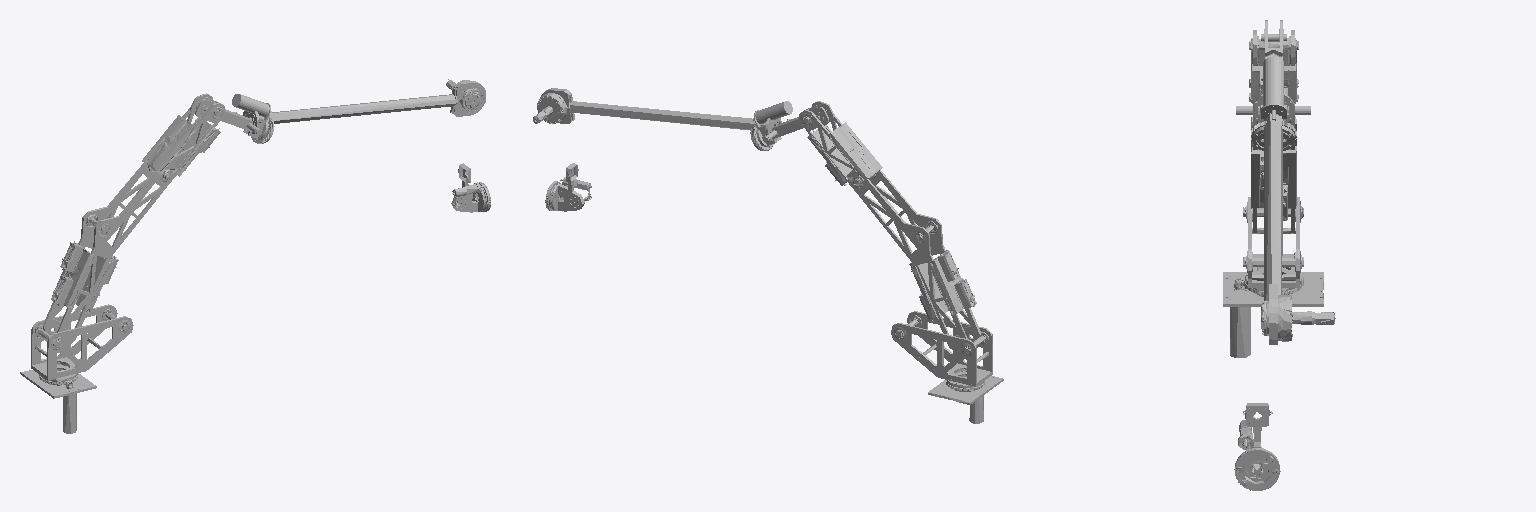
robot.urdf — arm_urdf3:
<?xml version="1.0" encoding="utf-8"?>
<!-- This URDF was automatically created by SolidWorks to URDF Exporter! Originally created by [author] ([email redacted]) 
     Commit Version: 1.6.0-4-g7f85cfe  Build Version: 1.6.7995.38578
     For more information, please see http://wiki.ros.org/sw_urdf_exporter -->
<robot
  name="arm_urdf3">
  <link
    name="Link_1">
    <inertial>
      <origin
        xyz="0.00622341511954164 -0.00916820792441791 -0.0469349641137912"
        rpy="0 0 0" />
      <mass
        value="3.33097898163857" />
      <inertia
        ixx="0.0101819650222787"
        ixy="-1.98734712904888E-07"
        ixz="-8.66271809934504E-05"
        iyy="0.00358872310944578"
        iyz="-2.39587965010669E-06"
        izz="0.00949532820710057" />
    </inertial>
    <visual>
      <origin
        xyz="0 0 0"
        rpy="0 0 0" />
      <geometry>
        <mesh
          filename="package://arm_urdf3/meshes/visual/Link_1.STL" />
      </geometry>
      <material
        name="">
        <color
          rgba="0.752941176470588 0.752941176470588 0.752941176470588 1" />
      </material>
    </visual>
    <collision>
      <origin
        xyz="0 0 0"
        rpy="0 0 0" />
      <geometry>
        <mesh
          filename="package://arm_urdf3/meshes/collision/Link_1.STL" />
      </geometry>
    </collision>
  </link>
  <link
    name="Link_2">
    <inertial>
      <origin
        xyz="0.060972336777117 -1.36723296035798E-05 0.0647576977642935"
        rpy="0 0 0" />
      <mass
        value="0.516253747755485" />
      <inertia
        ixx="0.000613480594305293"
        ixy="5.38160003974242E-19"
        ixz="-0.000275510697436789"
        iyy="0.0023924326610652"
        iyz="2.3245534780382E-20"
        izz="0.00218490294968333" />
    </inertial>
    <visual>
      <origin
        xyz="0 0 0"
        rpy="0 0 0" />
      <geometry>
        <mesh
          filename="package://arm_urdf3/meshes/visual/Link_2.STL" />
      </geometry>
      <material
        name="">
        <color
          rgba="0.752941176470588 0.752941176470588 0.752941176470588 1" />
      </material>
    </visual>
    <collision>
      <origin
        xyz="0 0 0"
        rpy="0 0 0" />
      <geometry>
        <mesh
          filename="package://arm_urdf3/meshes/collision/Link_2.STL" />
      </geometry>
    </collision>
  </link>
  <joint
    name="Joint_1"
    type="continuous">
    <origin
      xyz="0 0 0.027113"
      rpy="0 0 0" />
    <parent
      link="Link_1" />
    <child
      link="Link_2" />
    <axis
      xyz="0 0 1" />
  </joint>
  <link
    name="Link_3">
    <inertial>
      <origin
        xyz="0.248052997344685 -2.92185847471094E-06 0.265955531896042"
        rpy="0 0 0" />
      <mass
        value="1.93524935633317" />
      <inertia
        ixx="0.0382135022216721"
        ixy="-4.49867345730304E-16"
        ixz="-0.0451188810097449"
        iyy="0.099274210856537"
        iyz="-3.34175860324251E-16"
        izz="0.0611945626947677" />
    </inertial>
    <visual>
      <origin
        xyz="0 0 0"
        rpy="0 0 0" />
      <geometry>
        <mesh
          filename="package://arm_urdf3/meshes/visual/Link_3.STL" />
      </geometry>
      <material
        name="">
        <color
          rgba="0.752941176470588 0.752941176470588 0.752941176470588 1" />
      </material>
    </visual>
    <collision>
      <origin
        xyz="0 0 0"
        rpy="0 0 0" />
      <geometry>
        <mesh
          filename="package://arm_urdf3/meshes/collision/Link_3.STL" />
      </geometry>
    </collision>
  </link>
  <joint
    name="Joint_2"
    type="continuous">
    <origin
      xyz="0 0 0.1"
      rpy="0 0 0" />
    <parent
      link="Link_2" />
    <child
      link="Link_3" />
    <axis
      xyz="0 -1 0" />
  </joint>
  <link
    name="Link_4">
    <inertial>
      <origin
        xyz="-0.0241622970765439 -0.000145725953688065 0.0139342486656481"
        rpy="0 0 0" />
      <mass
        value="0.798545293139664" />
      <inertia
        ixx="0.000725346582901255"
        ixy="-9.25632625871902E-07"
        ixz="0.000642244287450308"
        iyy="0.00182700177776413"
        iyz="5.34067929115977E-07"
        izz="0.00146510835419295" />
    </inertial>
    <visual>
      <origin
        xyz="0 0 0"
        rpy="0 0 0" />
      <geometry>
        <mesh
          filename="package://arm_urdf3/meshes/visual/Link_4.STL" />
      </geometry>
      <material
        name="">
        <color
          rgba="0.752941176470588 0.752941176470588 0.752941176470588 1" />
      </material>
    </visual>
    <collision>
      <origin
        xyz="0 0 0"
        rpy="0 0 0" />
      <geometry>
        <mesh
          filename="package://arm_urdf3/meshes/collision/Link_4.STL" />
      </geometry>
    </collision>
  </link>
  <joint
    name="Joint_3"
    type="continuous">
    <origin
      xyz="0.55801 0 0.46651"
      rpy="0 0 0" />
    <parent
      link="Link_3" />
    <child
      link="Link_4" />
    <axis
      xyz="0 -1 0" />
  </joint>
  <link
    name="Link_5">
    <inertial>
      <origin
        xyz="0.54652151239787 0.0045965233223425 -0.315526632247381"
        rpy="0 0 0" />
      <mass
        value="1.41995187784121" />
      <inertia
        ixx="0.00275531148319508"
        ixy="6.91162703332479E-08"
        ixz="0.00393052302354834"
        iyy="0.00983380816136502"
        iyz="-1.19451574736834E-08"
        izz="0.00729337097705166" />
    </inertial>
    <visual>
      <origin
        xyz="0 0 0"
        rpy="0 0 0" />
      <geometry>
        <mesh
          filename="package://arm_urdf3/meshes/visual/Link_5.STL" />
      </geometry>
      <material
        name="">
        <color
          rgba="0.752941176470588 0.752941176470588 0.752941176470588 1" />
      </material>
    </visual>
    <collision>
      <origin
        xyz="0 0 0"
        rpy="0 0 0" />
      <geometry>
        <mesh
          filename="package://arm_urdf3/meshes/collision/Link_5.STL" />
      </geometry>
    </collision>
  </link>
  <joint
    name="Joint_4"
    type="continuous">
    <origin
      xyz="-0.020934 -0.00015536 0.012086"
      rpy="0 0 0" />
    <parent
      link="Link_4" />
    <child
      link="Link_5" />
    <axis
      xyz="-0.86603 0 0.5" />
  </joint>
  <link
    name="Link_6">
    <inertial>
      <origin
        xyz="-0.00885742110815235 -0.0330787531924534 -0.0330128346122342"
        rpy="0 0 0" />
      <mass
        value="0.462055180258125" />
      <inertia
        ixx="0.000186526424548505"
        ixy="1.01051408727741E-06"
        ixz="4.85716237256025E-05"
        iyy="0.000186429229057267"
        iyz="-5.92211171029459E-07"
        izz="0.000242741841550989" />
    </inertial>
    <visual>
      <origin
        xyz="0 0 0"
        rpy="0 0 0" />
      <geometry>
        <mesh
          filename="package://arm_urdf3/meshes/visual/Link_6.STL" />
      </geometry>
      <material
        name="">
        <color
          rgba="0.752941176470588 0.752941176470588 0.752941176470588 1" />
      </material>
    </visual>
    <collision>
      <origin
        xyz="0 0 0"
        rpy="0 0 0" />
      <geometry>
        <mesh
          filename="package://arm_urdf3/meshes/collision/Link_6.STL" />
      </geometry>
    </collision>
  </link>
  <joint
    name="Joint_5"
    type="continuous">
    <origin
      xyz="0.63746 0 -0.36804"
      rpy="0 0 0" />
    <parent
      link="Link_5" />
    <child
      link="Link_6" />
    <axis
      xyz="0 -1 0" />
  </joint>
  <link
    name="Link_7">
    <inertial>
      <origin
        xyz="-0.0202239496006344 2.28289609438548E-15 -0.0350289082380117"
        rpy="0 0 0" />
      <mass
        value="1.47639025500324" />
      <inertia
        ixx="0.00879392218461711"
        ixy="1.12722455111749E-17"
        ixz="-0.00170541271279087"
        iyy="0.00431422034842634"
        iyz="-7.58974100183454E-18"
        izz="0.00682468120699871" />
    </inertial>
    <visual>
      <origin
        xyz="0 0 0"
        rpy="0 0 0" />
      <geometry>
        <mesh
          filename="package://arm_urdf3/meshes/visual/Link_7.STL" />
      </geometry>
      <material
        name="">
        <color
          rgba="0.792156862745098 0.819607843137255 0.933333333333333 1" />
      </material>
    </visual>
    <collision>
      <origin
        xyz="0 0 0"
        rpy="0 0 0" />
      <geometry>
        <mesh
          filename="package://arm_urdf3/meshes/collision/Link_7.STL" />
      </geometry>
    </collision>
  </link>
  <joint
    name="Joint_6"
    type="continuous">
    <origin
      xyz="-0.05445 -0.028588 -0.09431"
      rpy="0 0 0" />
    <parent
      link="Link_6" />
    <child
      link="Link_7" />
    <axis
      xyz="0.5 0 0.86603" />
  </joint>
</robot>

--- Render facts (derived) ---
3 views of the same robot in one strip: view 1: azimuth 30°, elevation 25°; view 2: azimuth 150°, elevation 25°; view 3: azimuth 270°, elevation 25° (orthographic).
Model arm_urdf3 with 7 links and 6 joints (6 continuous), rooted at Link_1, posed every joint at zero.
Visible links, largest first — view 1: Link_3, Link_2, Link_5, Link_4, Link_1, Link_6; view 2: Link_3, Link_2, Link_5, Link_4, Link_1, Link_6; view 3: Link_5, Link_3, Link_1, Link_4, Link_6, Link_2.
Boxes of the visible links, <box> form: Link_3: <box>43,93,224,345</box>; Link_2: <box>31,304,133,380</box>; Link_5: <box>243,79,485,133</box>; Link_4: <box>190,94,274,143</box>; Link_1: <box>20,365,96,433</box>; Link_6: <box>451,163,490,212</box>; Link_3: <box>799,101,980,351</box>; Link_2: <box>891,311,992,386</box>; Link_5: <box>533,88,781,140</box>; Link_4: <box>750,101,833,150</box>; Link_1: <box>928,371,1003,423</box>; Link_6: <box>545,163,591,211</box>; Link_5: <box>1253,93,1335,344</box>; Link_3: <box>1249,30,1298,233</box>; Link_1: <box>1223,267,1323,357</box>; Link_4: <box>1236,20,1310,150</box>; Link_6: <box>1234,403,1280,490</box>; Link_2: <box>1243,197,1303,287</box>.
Bounding box of the posed robot: 1.33 × 0.192 × 0.8215 m (x, y, z).
Meshes: 7 distinct files referenced, 6 mesh visuals loaded (6 binary STL); not drawn: 1 (reference not matched to a file when rendering).